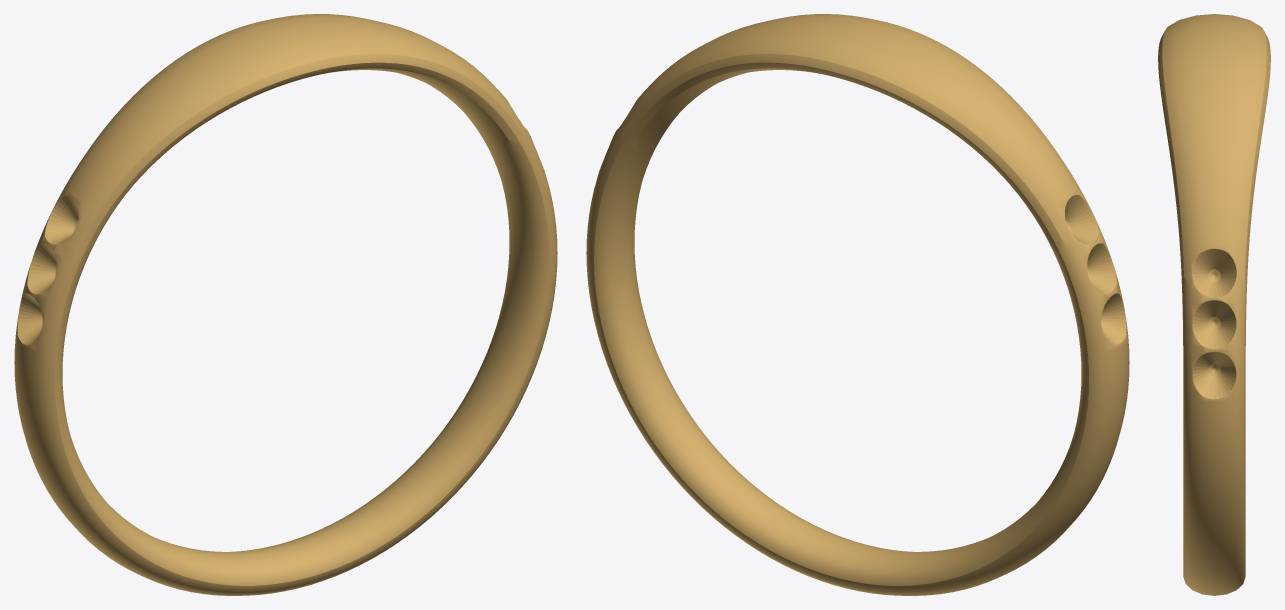
File: reverse-tapered-bezel-accents-wide.glb
3 views of the same model, side by side, from view 1: azimuth 30°, elevation 25°; view 2: azimuth 150°, elevation 25°; view 3: azimuth 270°, elevation 25° (orthographic). The views are drawn at different scales.
Parts seen in each view (by area): view 1: Band; view 2: Band; view 3: Band.
Part boxes in pixels (box(x1,y1,x2,y2)): Band: box(14, 14, 557, 595); Band: box(586, 14, 1129, 595); Band: box(1158, 14, 1270, 595).
Size of the model in its own units: 19.6 by 19.6 by 3.8.
